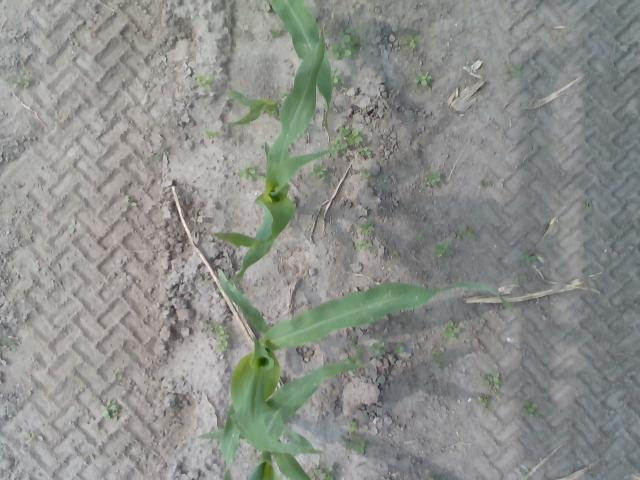Maize: (216, 266, 516, 466), (210, 24, 326, 282), (197, 361, 358, 480), (227, 0, 332, 127)
Weeds: (332, 128, 360, 152), (332, 34, 354, 60), (344, 436, 366, 454), (216, 325, 228, 355), (102, 398, 118, 417), (122, 194, 137, 212), (314, 164, 330, 180), (460, 226, 476, 242), (524, 401, 539, 417), (312, 468, 332, 480), (437, 248, 457, 260), (414, 72, 431, 86), (198, 76, 215, 90), (486, 372, 502, 386), (426, 170, 440, 186), (442, 320, 456, 336), (402, 34, 416, 48), (358, 235, 372, 248), (14, 78, 31, 88), (241, 168, 258, 178), (372, 342, 386, 354), (206, 130, 220, 142), (508, 65, 522, 76), (332, 67, 342, 82), (361, 223, 374, 234), (361, 146, 372, 156), (202, 323, 214, 332), (360, 166, 370, 176), (270, 28, 282, 36), (414, 234, 426, 242), (347, 422, 356, 432), (526, 253, 536, 262)
